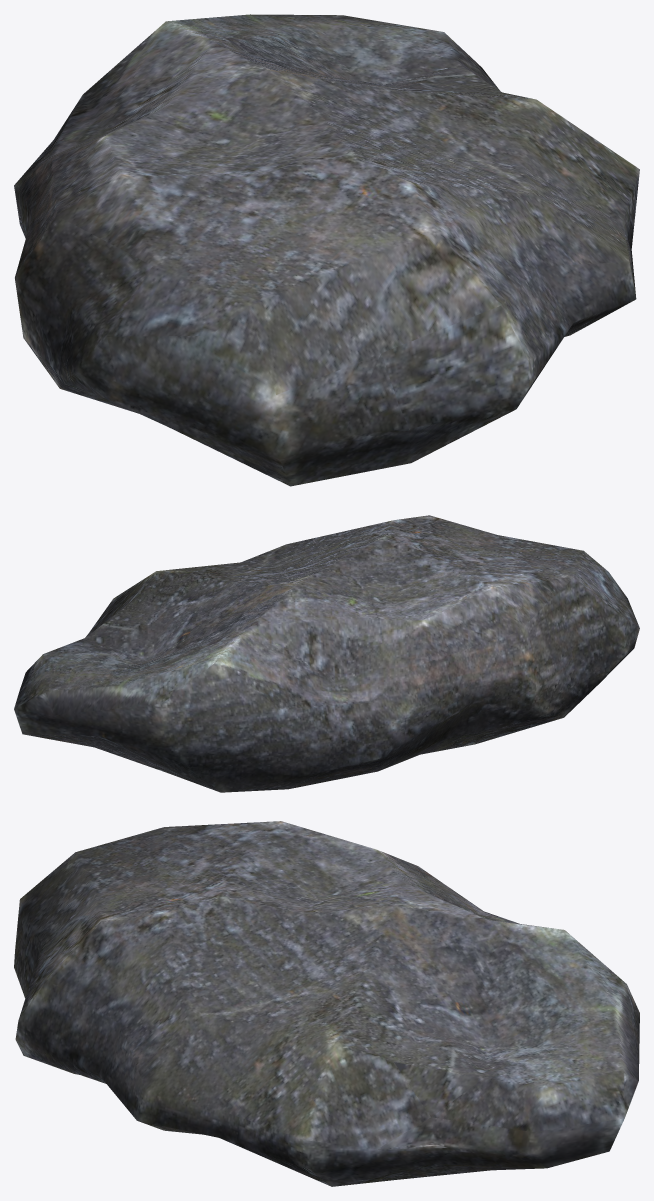
The model's file is Rock3.fbx.
3 views of the same model, one above another, from view 1: azimuth 30°, elevation 25°; view 2: azimuth 150°, elevation 25°; view 3: azimuth 270°, elevation 25° (orthographic). The views are drawn at different scales.
Visible parts, largest first — view 1: Rock.009; view 2: Rock.009; view 3: Rock.009.
Part boxes in pixels (x1,y1,x2,y2): Rock.009: (14,14,639,486); Rock.009: (14,515,639,792); Rock.009: (14,821,639,1186).
Size of the model in its own units: 417 by 161 by 429.
